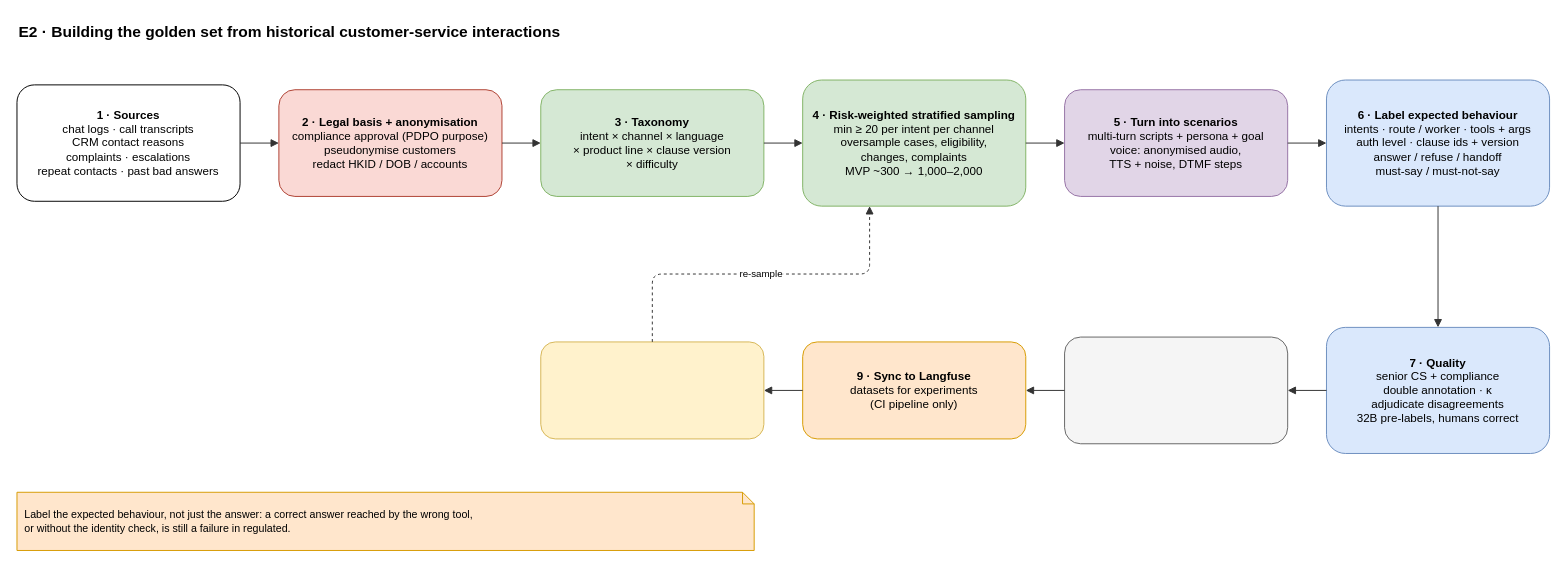
Image size: 1567x567. Some labels were removed from this diagram. Here are the shapes that lost their labels. From the top down, the centre of each, then its label:
At pixel 652 390: "10 · Refresh quarterly re-sample weekly bad cases from the annotation queue".
At pixel 1176 390: "8 · Freeze + version datasets/ in Git holdout split never used for prompt tuning".
